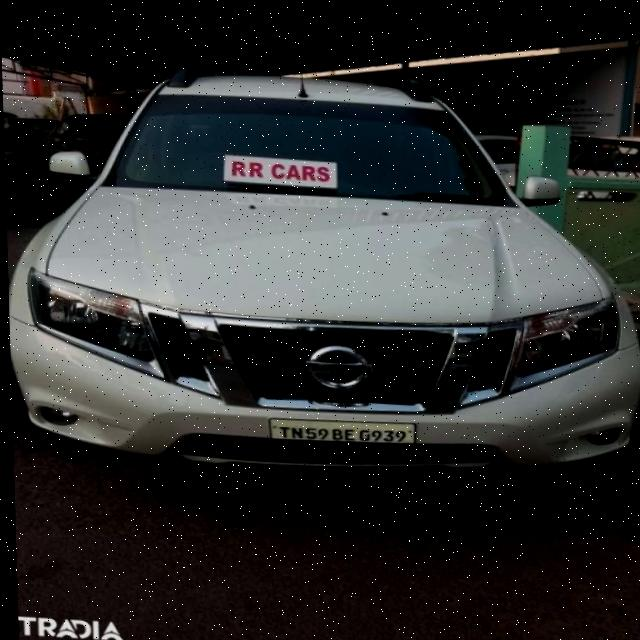plate: (269, 413, 411, 441)
